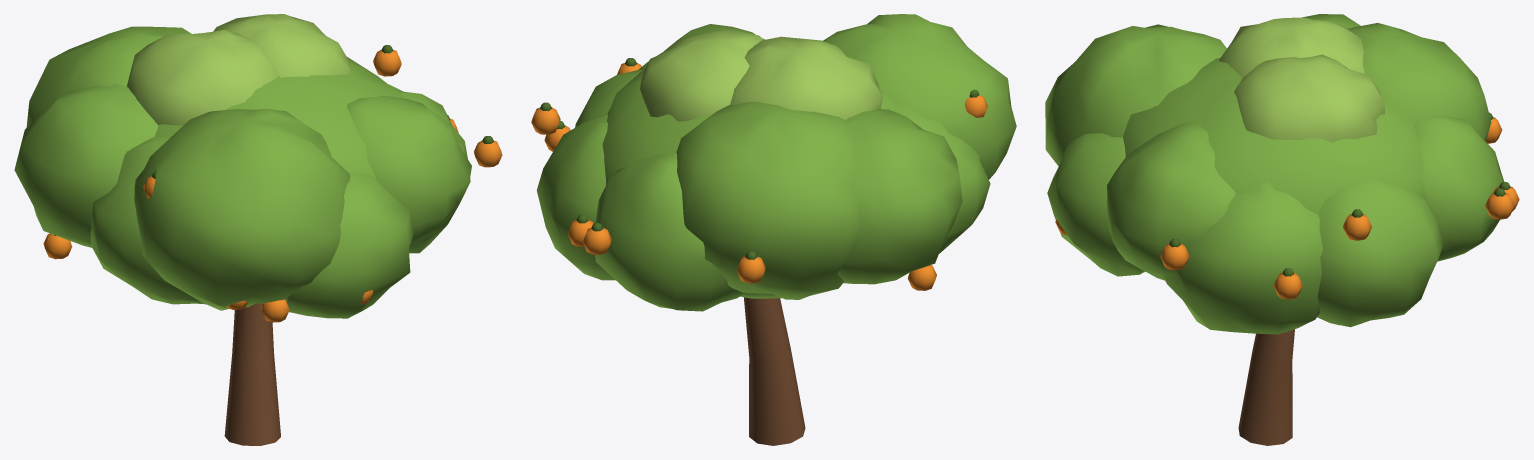
Rendered from tree_kaki.glb.
3 renders of one model, left to right at view 1: azimuth 30°, elevation 25°; view 2: azimuth 150°, elevation 25°; view 3: azimuth 270°, elevation 25°, orthographic. The views are drawn at different scales.
Parts seen in each view (by area): view 1: tree_kaki; view 2: tree_kaki; view 3: tree_kaki.
Part boxes in pixels (box(x1,y1,x2,y2)): tree_kaki: box(14, 14, 502, 445); tree_kaki: box(531, 14, 1016, 445); tree_kaki: box(1045, 14, 1519, 445).
Bounding box in the file's own units: 3.19 × 2.93 × 3.2.
